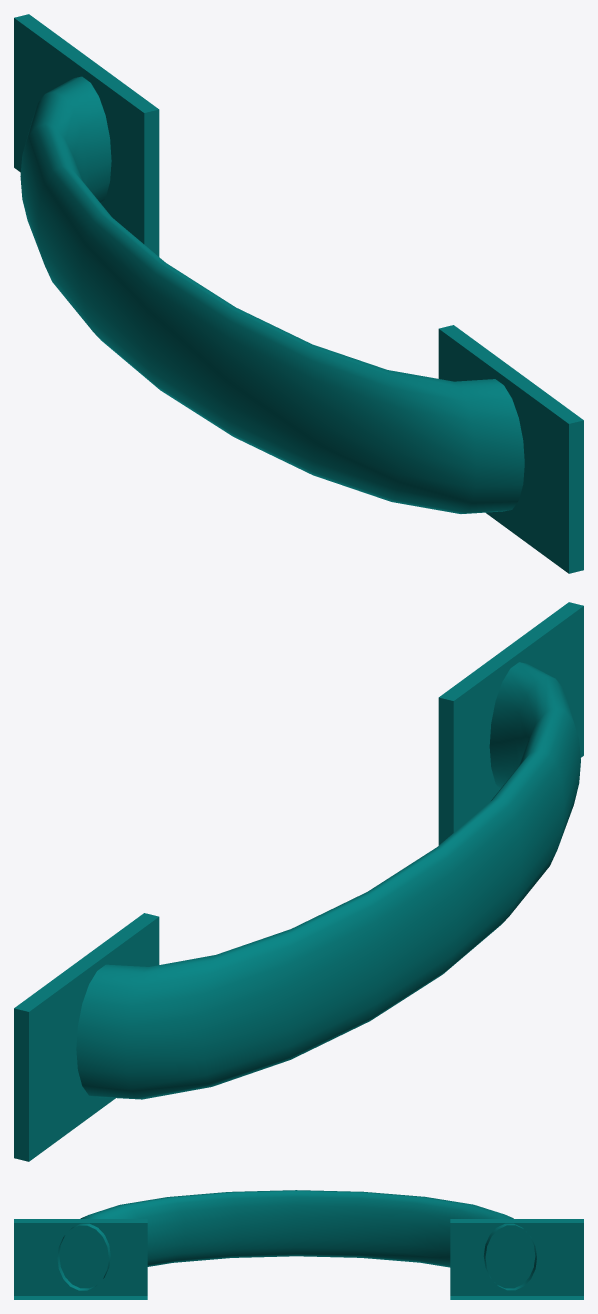
File: asa_suelta_low.fbx
3 renders of one model, top to bottom at view 1: azimuth 30°, elevation 25°; view 2: azimuth 150°, elevation 25°; view 3: azimuth 270°, elevation 25°, orthographic. The views are drawn at different scales.
Parts seen in each view (by area): view 1: 1; view 2: 1; view 3: 1.
Boxes of the visible parts, left/top/right/bottom form: 1: left=14, top=14, right=583, bottom=573; 1: left=14, top=602, right=583, bottom=1161; 1: left=14, top=1190, right=583, bottom=1299.
Size of the model in its own units: 27.74 by 24.43 by 164.
